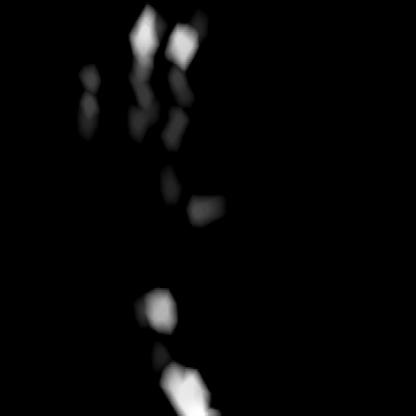fingers: (158, 364, 219, 414)
palm: (75, 12, 199, 150)
thumb: (134, 163, 228, 330)
